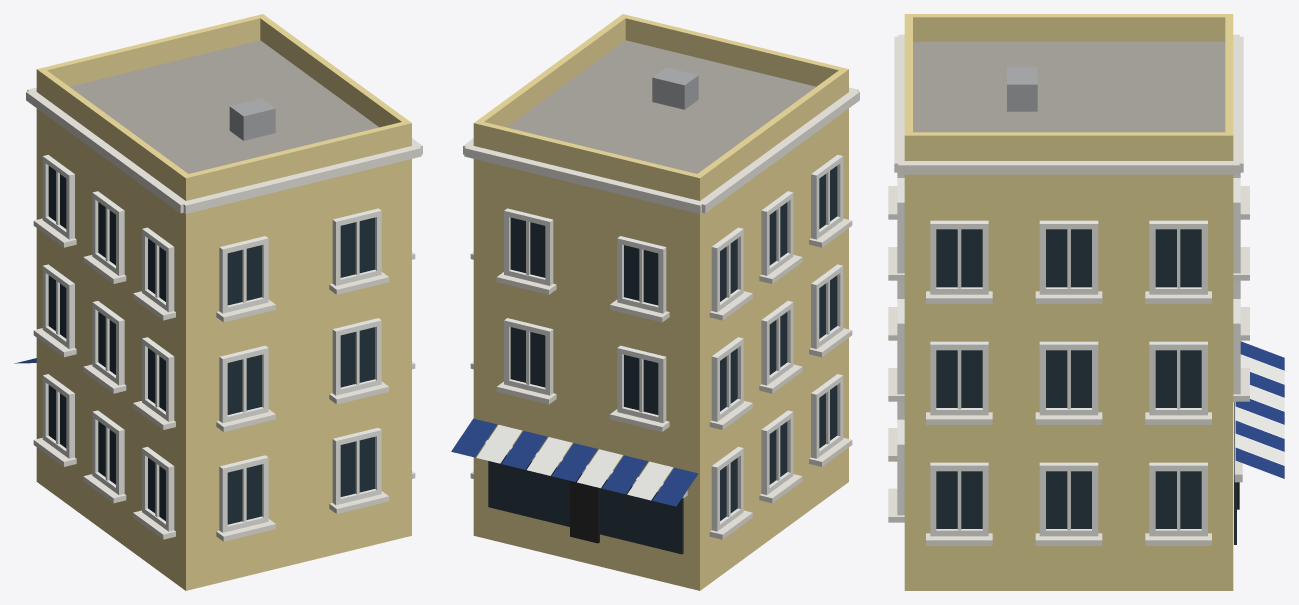
The picture shows the model from 3 angles, left to right: view 1: azimuth 30°, elevation 25°; view 2: azimuth 150°, elevation 25°; view 3: azimuth 270°, elevation 25°; orthographic projection. The views are drawn at different scales.
Parts seen in each view (by area): view 1: b9687; view 2: b9687; view 3: b9687.
Boxes of the visible parts, x1,y1,x2,y2 form: b9687: [14, 14, 422, 590]; b9687: [451, 14, 859, 590]; b9687: [888, 14, 1284, 590].
Bounding box in the file's own units: 3128 × 4924 × 3864.
